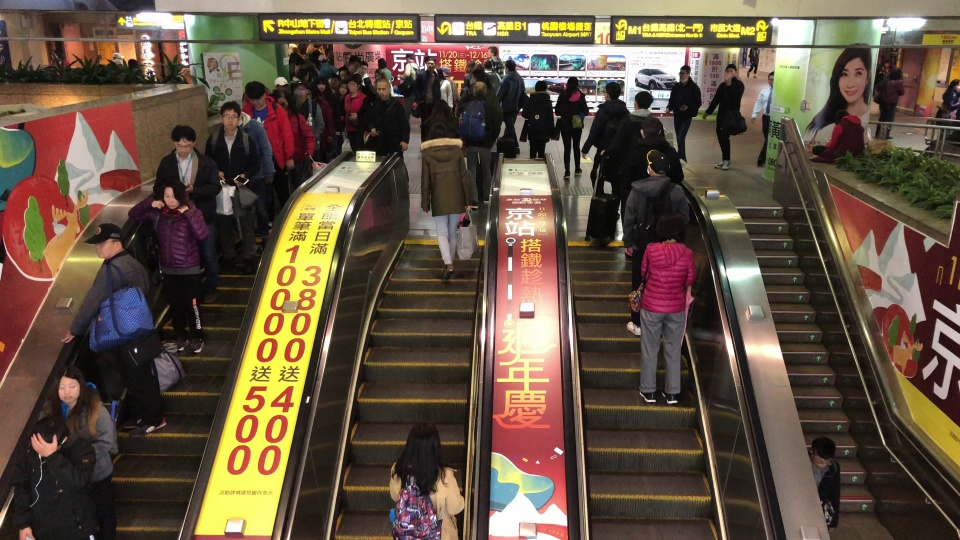person_head: (405, 420, 440, 459), (29, 414, 69, 448), (54, 365, 87, 404), (94, 222, 125, 259), (657, 213, 688, 242), (809, 436, 836, 469), (170, 123, 197, 155), (160, 179, 185, 210), (216, 100, 241, 129), (244, 80, 267, 107), (645, 152, 670, 176), (639, 116, 662, 139), (633, 90, 654, 111), (427, 120, 449, 138), (603, 81, 622, 101), (431, 99, 450, 117), (375, 78, 392, 98), (274, 92, 292, 110), (833, 108, 851, 124), (347, 75, 362, 92), (472, 80, 487, 96), (678, 63, 692, 80), (348, 54, 361, 72), (273, 76, 288, 91), (723, 62, 738, 77), (294, 81, 308, 97), (889, 65, 901, 81), (316, 77, 329, 91), (472, 69, 485, 83), (565, 75, 579, 88), (338, 65, 350, 80), (766, 69, 776, 87), (296, 67, 309, 80), (504, 59, 517, 72), (175, 62, 187, 75), (534, 80, 548, 91), (486, 45, 498, 57), (50, 48, 63, 59), (127, 59, 140, 70), (328, 73, 339, 86), (426, 57, 436, 71), (465, 59, 475, 73), (359, 60, 368, 75), (950, 77, 959, 92), (376, 57, 387, 69), (293, 56, 303, 69), (111, 51, 125, 60), (374, 68, 386, 78), (404, 52, 414, 64), (482, 58, 492, 70), (342, 52, 351, 65), (436, 66, 444, 79), (441, 65, 450, 76), (318, 54, 327, 63)
person_vbox: (58, 221, 167, 438), (127, 179, 209, 354), (39, 363, 118, 540), (619, 152, 690, 336), (151, 123, 221, 303), (637, 212, 697, 404), (598, 90, 664, 259), (11, 413, 96, 540), (203, 100, 260, 273), (388, 420, 465, 540), (419, 120, 473, 282), (581, 81, 630, 222), (241, 79, 294, 209), (455, 81, 503, 211), (618, 115, 685, 192), (364, 77, 411, 182), (705, 62, 746, 171), (664, 64, 702, 164), (554, 75, 589, 180), (274, 92, 315, 176), (807, 436, 840, 530), (495, 59, 526, 155), (810, 108, 865, 159), (520, 79, 555, 158), (413, 57, 440, 151), (338, 75, 370, 154), (750, 69, 776, 166), (293, 81, 325, 152), (874, 67, 903, 138), (458, 68, 502, 110), (419, 98, 458, 143), (398, 51, 420, 121), (315, 78, 341, 137), (942, 78, 959, 130), (435, 66, 453, 108), (372, 67, 395, 95), (482, 59, 502, 91), (441, 65, 459, 100), (486, 45, 505, 77), (745, 48, 760, 80), (48, 48, 69, 67), (318, 53, 336, 74), (377, 57, 392, 82)
